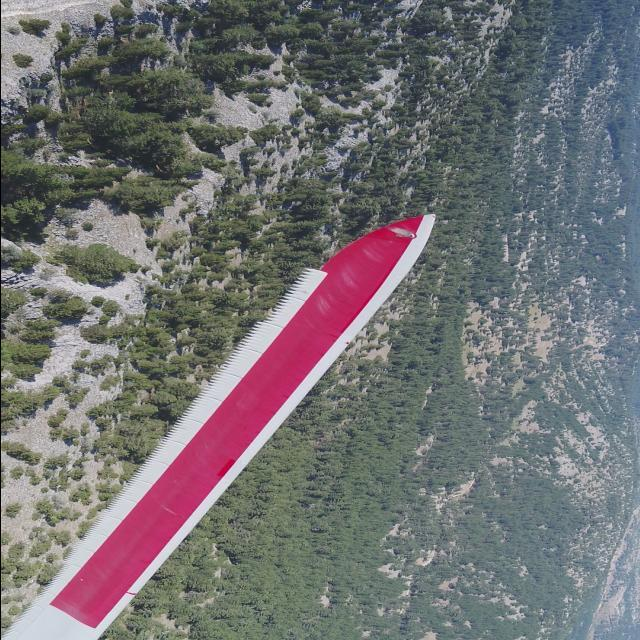Burn Mark: (396, 226, 422, 242)
